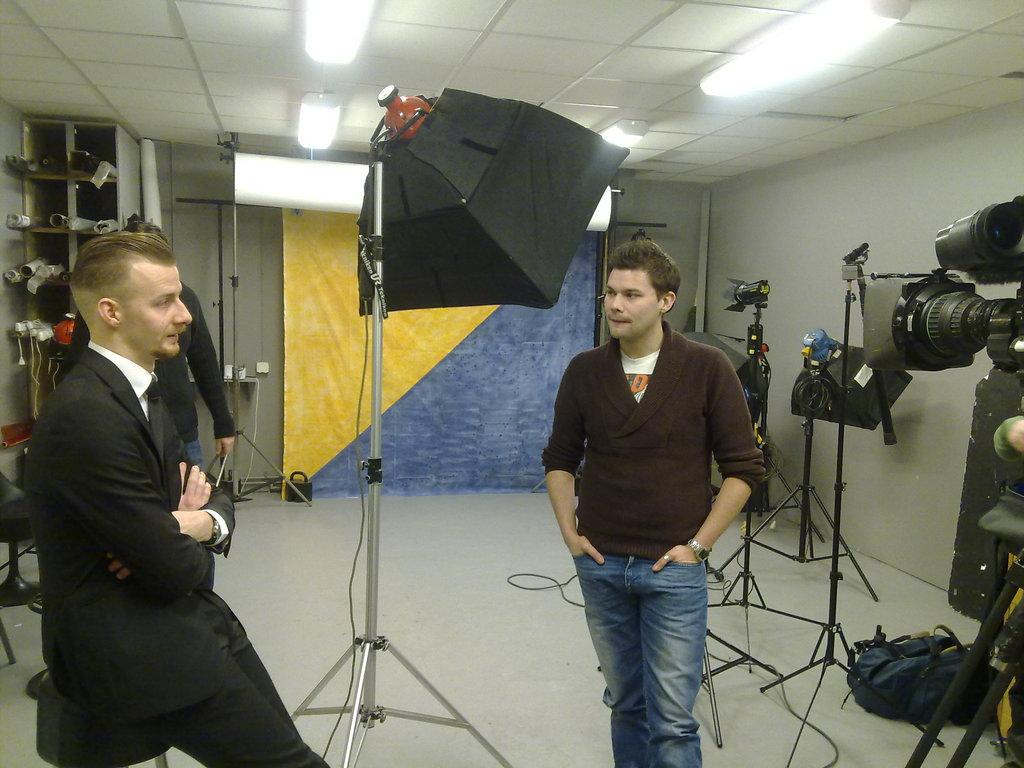Luggage-and-bags: (845, 622, 997, 728)
